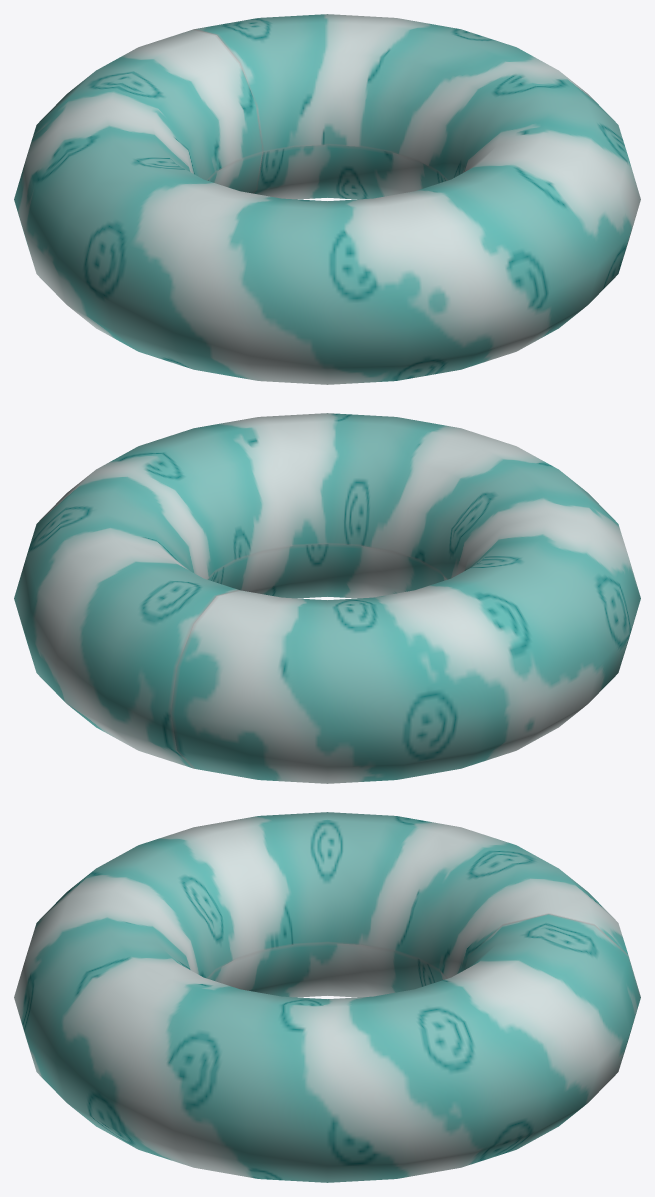
File: BEACH.fbx
3 renders of one model, top to bottom at view 1: azimuth 30°, elevation 25°; view 2: azimuth 150°, elevation 25°; view 3: azimuth 270°, elevation 25°, orthographic.
Parts seen in each view (by area): view 1: FLOAT_BEACH; view 2: FLOAT_BEACH; view 3: FLOAT_BEACH.
Part boxes in pixels (x1,y1,x2,y2): FLOAT_BEACH: (14, 14, 640, 384); FLOAT_BEACH: (14, 413, 640, 783); FLOAT_BEACH: (14, 812, 640, 1182).
Size of the model in its own units: 170 by 50 by 170.
